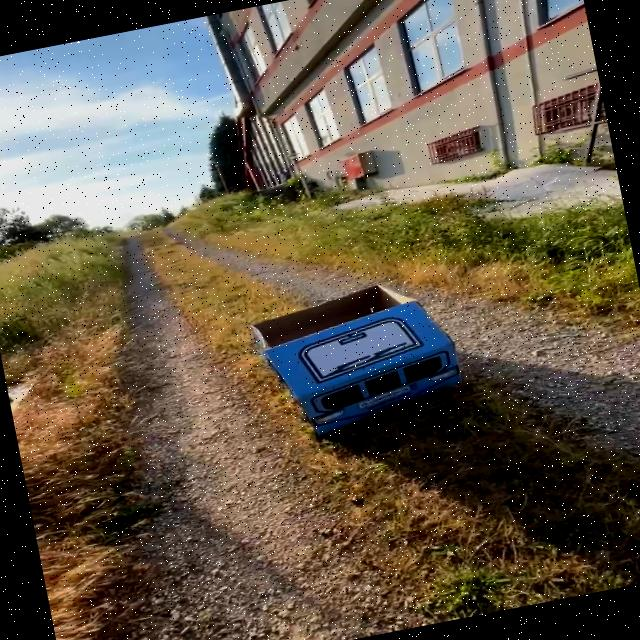blue_car: (192, 259, 519, 467)
